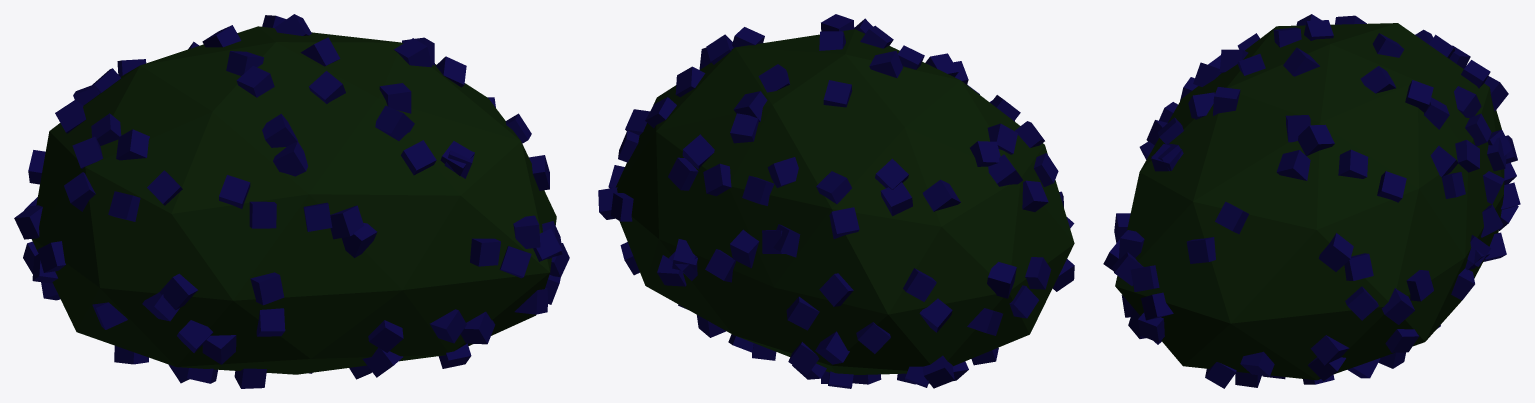
File: s_bush_02.FBX
3 views of the same model, side by side, from view 1: azimuth 30°, elevation 25°; view 2: azimuth 150°, elevation 25°; view 3: azimuth 270°, elevation 25° (orthographic). The views are drawn at different scales.
Parts seen in each view (by area): view 1: s_bush_02, s_berries_02; view 2: s_bush_02, s_berries_02; view 3: s_bush_02, s_berries_02.
Part boxes in pixels (left/top/right/bottom): s_bush_02: left=31, top=26, right=556, bottom=374; s_berries_02: left=14, top=14, right=569, bottom=388; s_bush_02: left=615, top=29, right=1074, bottom=374; s_berries_02: left=598, top=14, right=1074, bottom=388; s_bush_02: left=1115, top=23, right=1504, bottom=380; s_berries_02: left=1103, top=14, right=1520, bottom=388.
Bounding box in the file's own units: 1.1 × 0.7467 × 0.9595.
